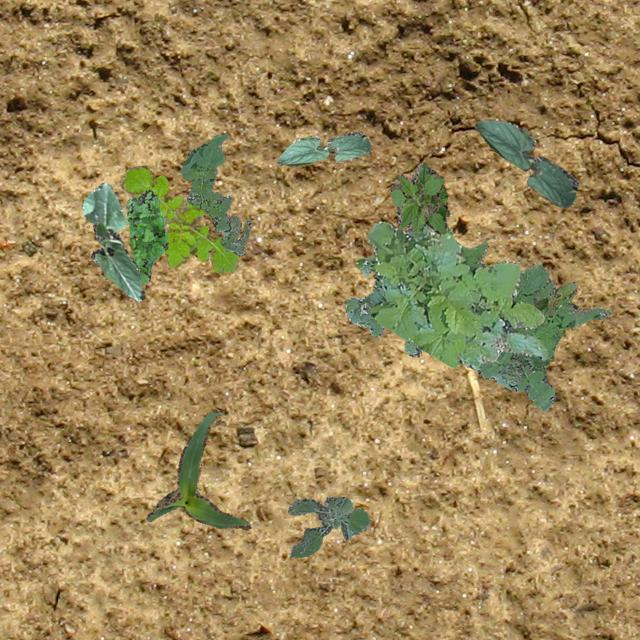crop: (146, 408, 250, 530), (474, 120, 576, 206), (82, 182, 144, 300), (276, 130, 371, 164), (534, 280, 576, 316)
weed: (344, 240, 610, 408), (367, 220, 546, 368), (119, 165, 238, 272), (180, 133, 250, 255), (286, 496, 368, 556), (388, 160, 448, 233), (124, 188, 168, 282)
